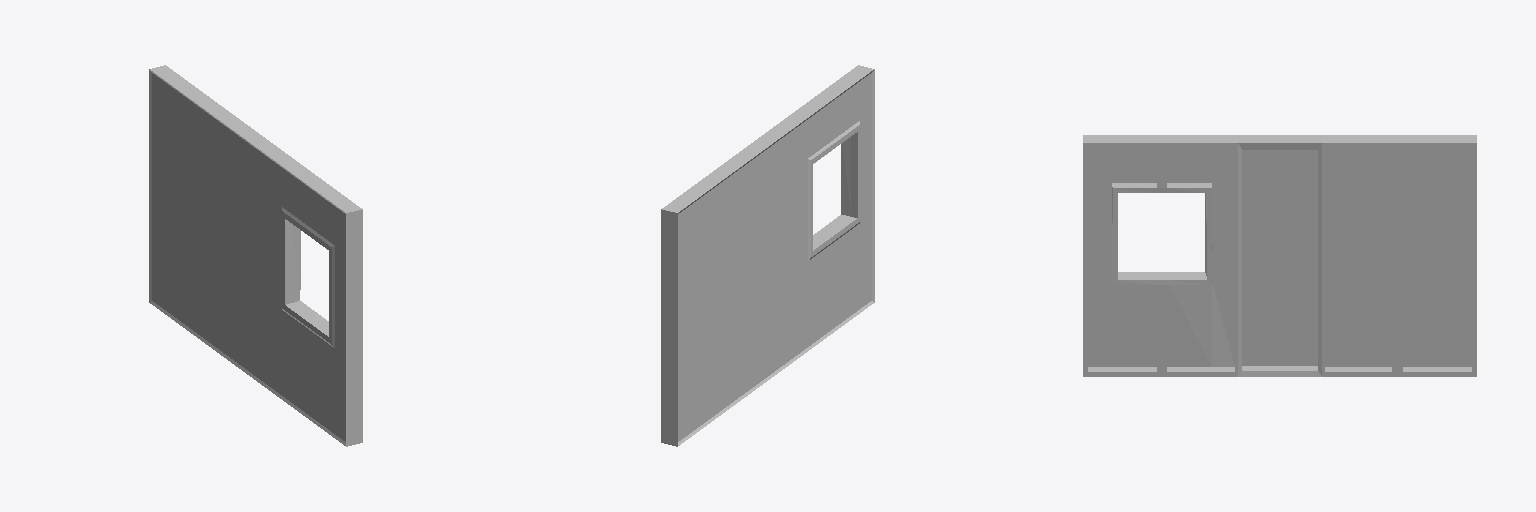
The model's file is WindowWall.obj.
3 renders of one model, left to right at view 1: azimuth 30°, elevation 25°; view 2: azimuth 150°, elevation 25°; view 3: azimuth 270°, elevation 25°, orthographic.
Parts seen in each view (by area): view 1: WindowWall; view 2: WindowWall; view 3: WindowWall.
Part boxes in pixels (x1,y1,x2,y2): WindowWall: (149, 65, 362, 446); WindowWall: (661, 65, 874, 446); WindowWall: (1083, 135, 1476, 376).
Bounding box in the file's own units: 0.2242 × 3.06 × 4.68.